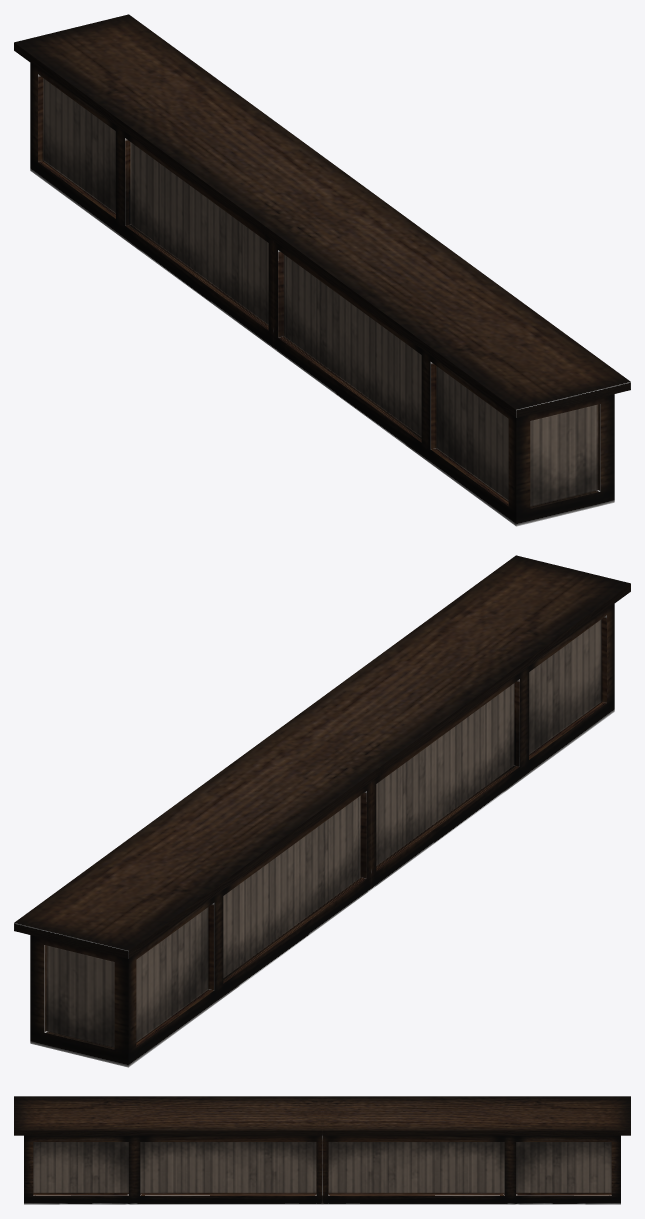
The model's file is mostrador.obj.
3 views of the same model, one above another, from view 1: azimuth 30°, elevation 25°; view 2: azimuth 150°, elevation 25°; view 3: azimuth 270°, elevation 25° (orthographic). The views are drawn at different scales.
Visible parts, largest first — view 1: Cube.001; view 2: Cube.001; view 3: Cube.001.
Boxes of the visible parts, left/top/right/bottom form: Cube.001: left=14, top=14, right=630, bottom=526; Cube.001: left=14, top=555, right=630, bottom=1067; Cube.001: left=14, top=1096, right=630, bottom=1204.
Size of the model in its own units: 2.73 by 2.83 by 20.64.
